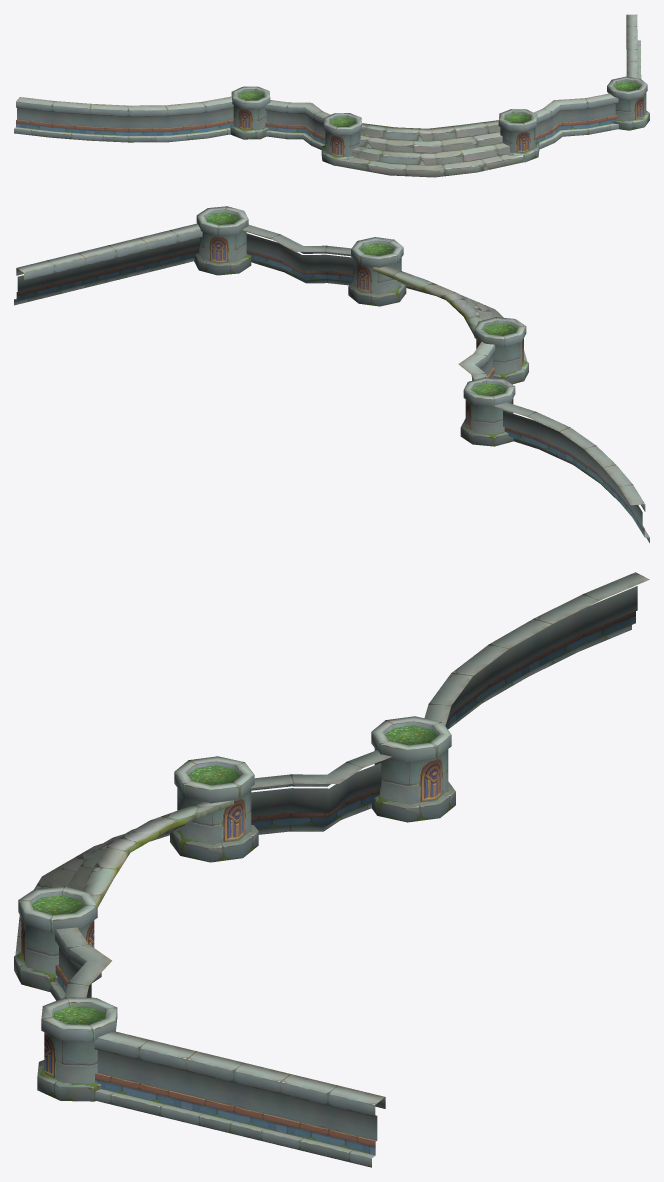
File: Map_06_wall09.FBX
The picture shows the model from 3 angles, top to bottom: view 1: azimuth 30°, elevation 25°; view 2: azimuth 150°, elevation 25°; view 3: azimuth 270°, elevation 25°; orthographic projection. The views are drawn at different scales.
Visible parts, largest first — view 1: Map_06_wall09; view 2: Map_06_wall09; view 3: Map_06_wall09.
Part boxes in pixels (<box>): Map_06_wall09: <box>14,14,649,177</box>; Map_06_wall09: <box>14,206,649,542</box>; Map_06_wall09: <box>14,572,649,1167</box>.
Bounding box in the file's own units: 3400 × 1698 × 208.
